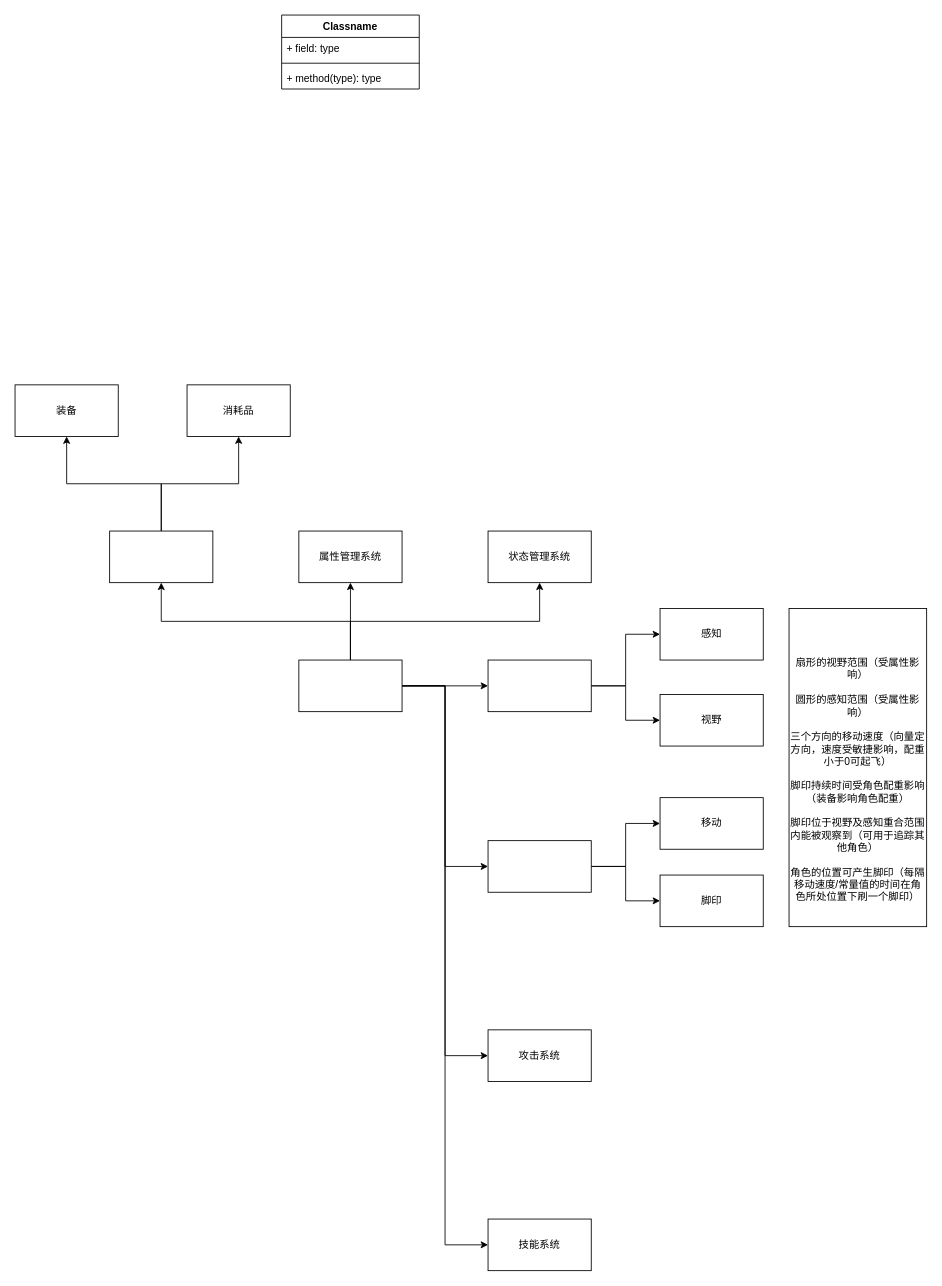
This 942x1286 diagram has some shape labels left out. Each missing label, with the centre of its shape:
"物品管理系统" goes at pixel 161 556.
"观察系统" goes at pixel 539 685.
"角色" goes at pixel 350 685.
"运动系统" goes at pixel 539 866.
